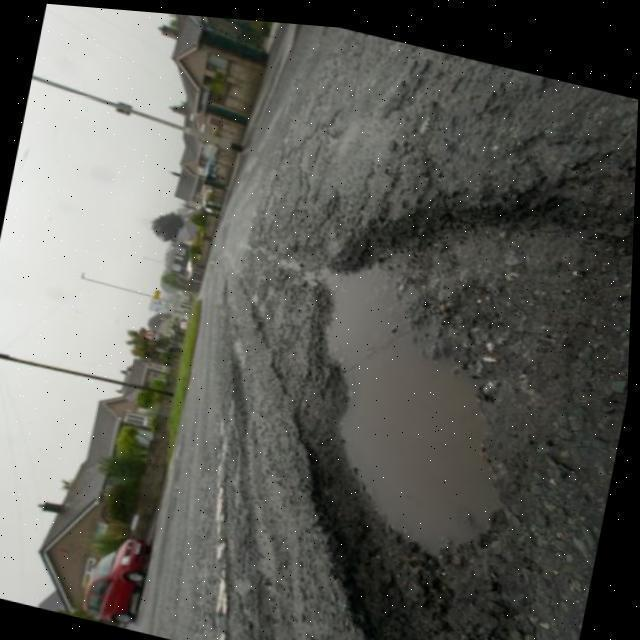Pothole: (273, 202, 635, 640)
